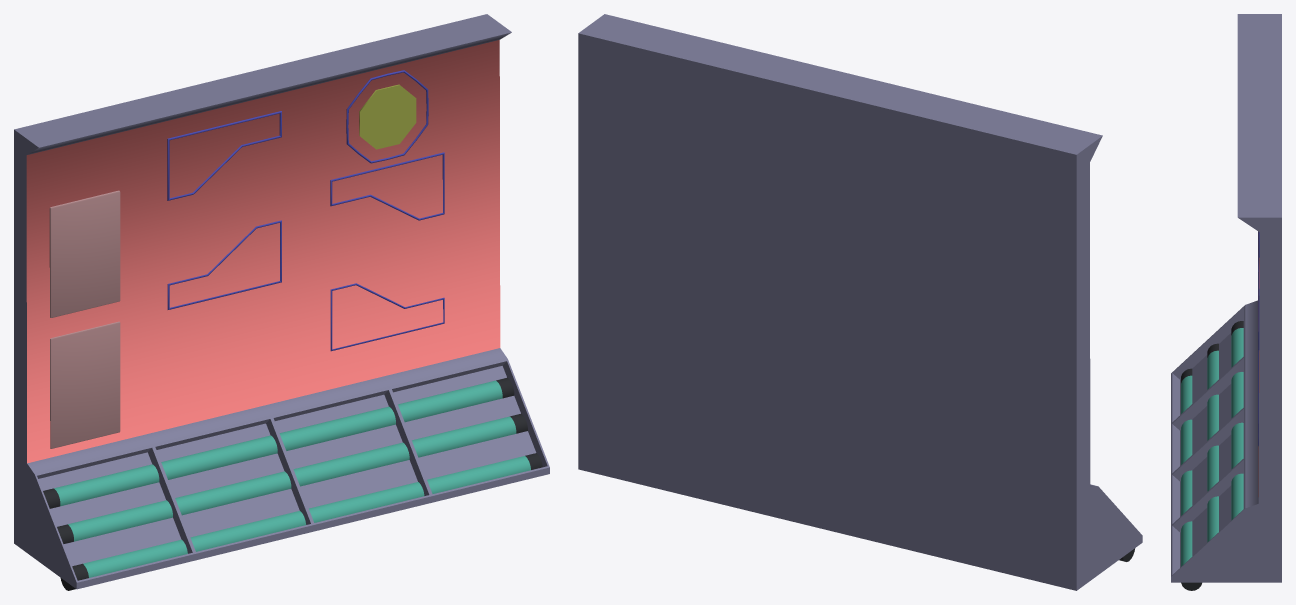
File: Wall test.fbx
3 views of the same model, side by side, from view 1: azimuth 30°, elevation 25°; view 2: azimuth 150°, elevation 25°; view 3: azimuth 270°, elevation 25° (orthographic). The views are drawn at different scales.
Visible parts, largest first — view 1: Box036, Cylinder031, Box037, Line010, Cylinder032; view 2: Box036; view 3: Box036, Cylinder031, Line010.
Part boxes in pixels (box(x1,y1,x2,y2)): Box036: box(14, 14, 549, 589); Cylinder031: box(43, 377, 542, 590); Box037: box(49, 190, 120, 448); Line010: box(167, 70, 444, 351); Cylinder032: box(359, 84, 416, 149); Box036: box(578, 14, 1142, 590); Box036: box(1171, 14, 1281, 582); Cylinder031: box(1181, 321, 1243, 590); Line010: box(1258, 231, 1259, 445).
Size of the model in its own units: 1190 by 1018 by 273.
